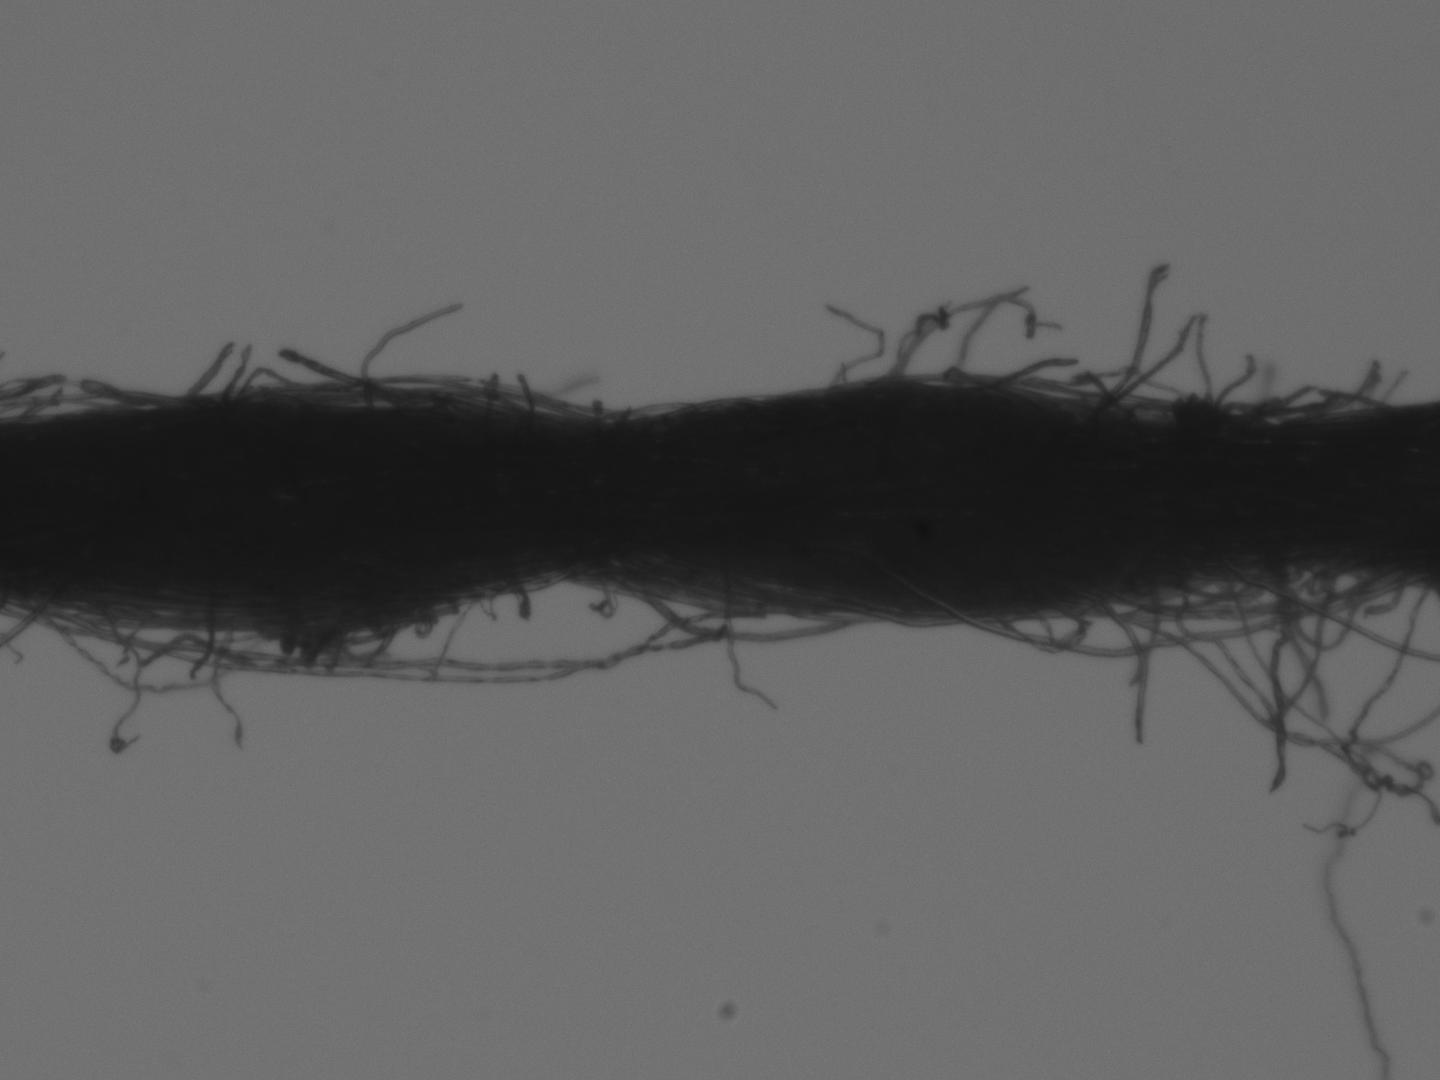loop_fiber: (963, 557, 1429, 658), (26, 605, 274, 699), (1108, 558, 1388, 619), (634, 592, 871, 644), (1120, 378, 1395, 421), (1278, 559, 1372, 650), (231, 362, 396, 408), (280, 619, 391, 676), (991, 604, 1095, 656), (1164, 564, 1311, 600)
protruding_fiber: (355, 294, 464, 395)
